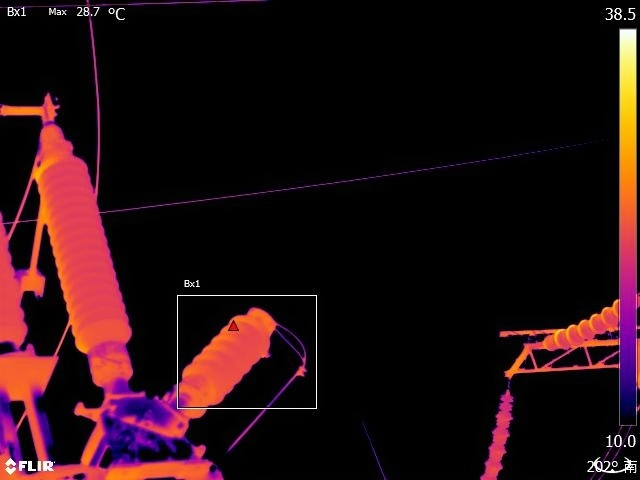insulator: (535, 283, 640, 355), (465, 382, 518, 480)
post insulator: (25, 100, 151, 363)
tube: (149, 301, 288, 435)
